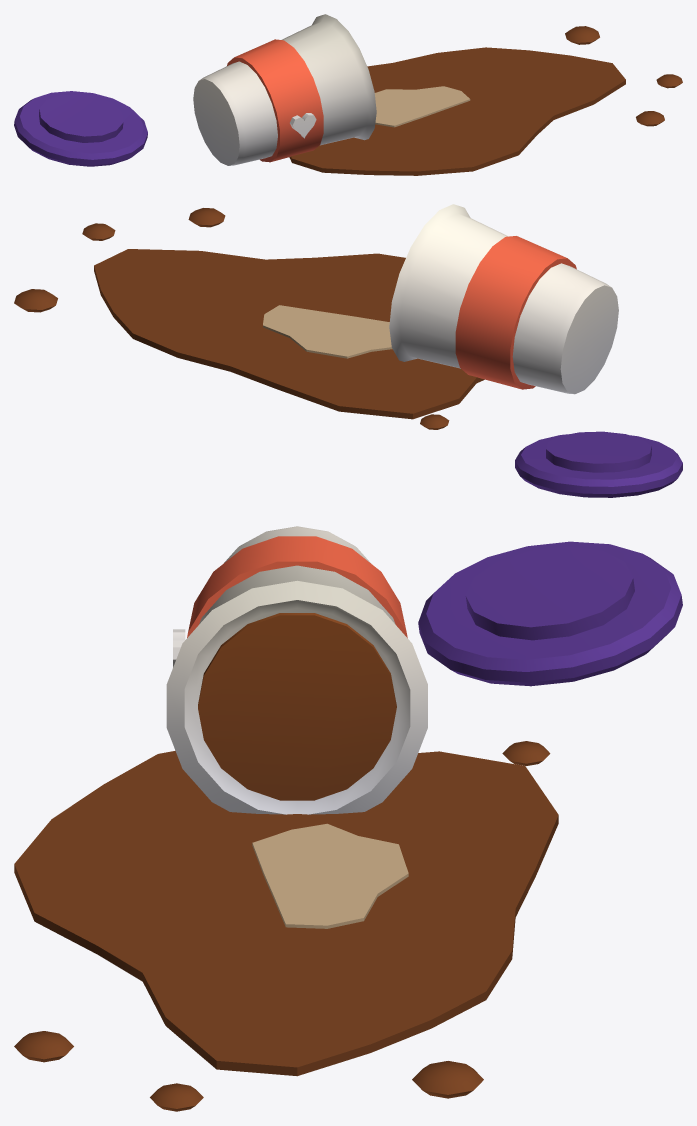
File: hz_coffee_spill.glb
3 renders of one model, top to bottom at view 1: azimuth 30°, elevation 25°; view 2: azimuth 150°, elevation 25°; view 3: azimuth 270°, elevation 25°, orthographic. The views are drawn at different scales.
Visible parts, largest first — view 1: hz_coffee_spill; view 2: hz_coffee_spill; view 3: hz_coffee_spill.
Part boxes in pixels (<box>): hz_coffee_spill: <box>14,14,682,175</box>; hz_coffee_spill: <box>14,204,682,497</box>; hz_coffee_spill: <box>14,526,682,1111</box>.
Bounding box in the file's own units: 2.13 × 0.4499 × 1.11.
